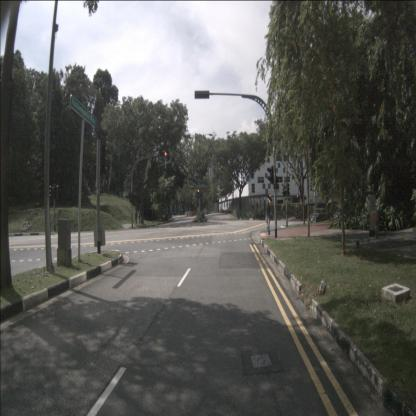human-pedestrian-adult: (265, 197, 271, 238), (134, 209, 138, 224), (138, 208, 141, 224)
vehicle-car: (310, 208, 330, 224), (334, 209, 348, 220)
